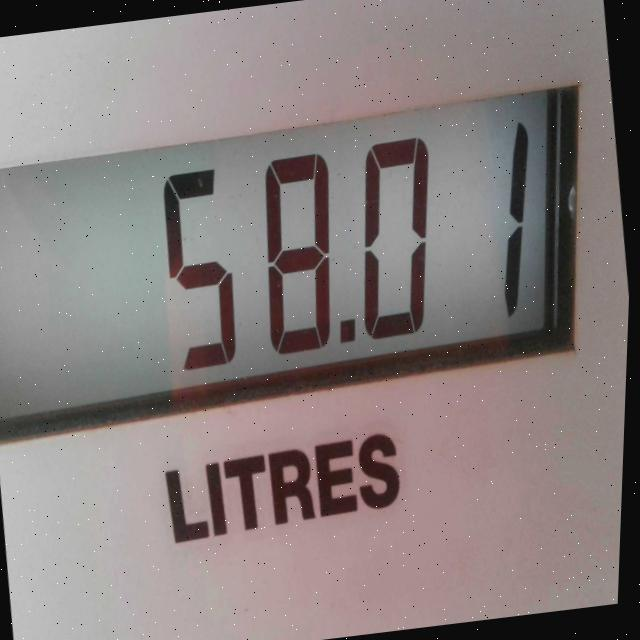.: (332, 303, 364, 363)
0: (344, 138, 460, 356)
1: (468, 117, 557, 326)
5: (153, 161, 253, 383)
8: (255, 156, 347, 352)
